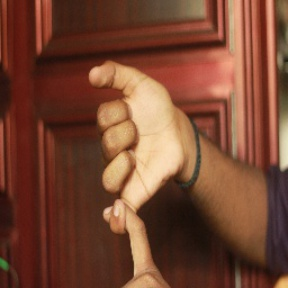S: (85, 58, 192, 286)
